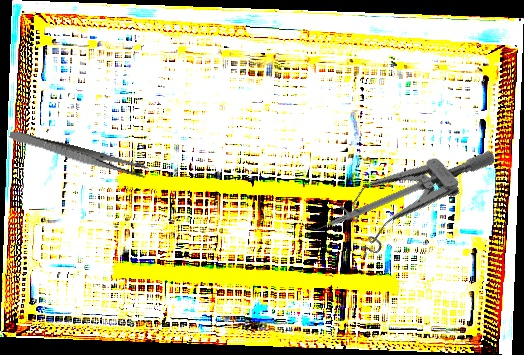Chopper: (298, 150, 476, 239)
Dressing Forceps: (7, 128, 150, 181)
Speculum: (327, 106, 498, 271)
